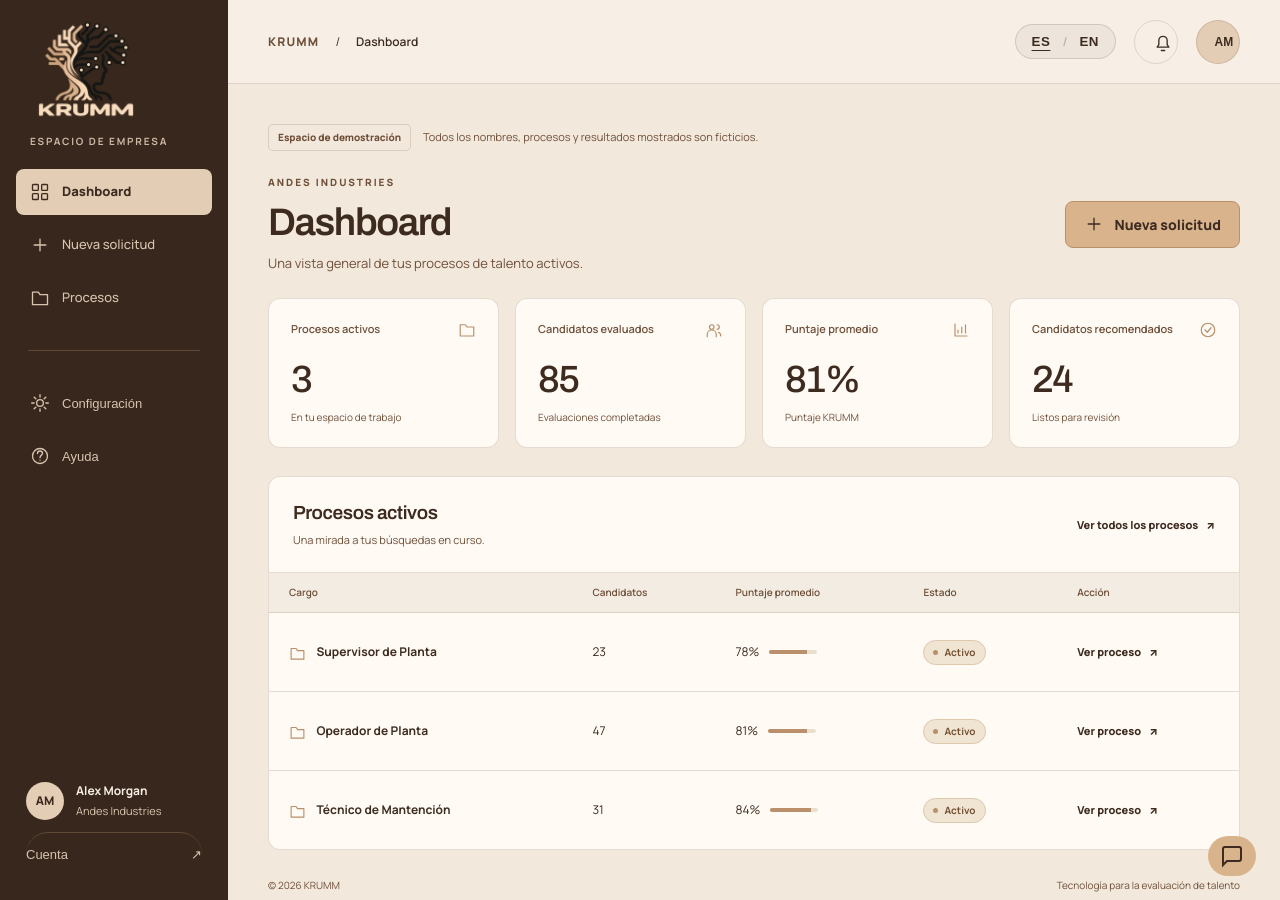
C. CompanyDashboardPage (ref company.html) › EN: KPIs y tabla traducen (cargos en inglés de la ref)
Click the button "EN" at [1089, 42], box [1069,28,1109,55]
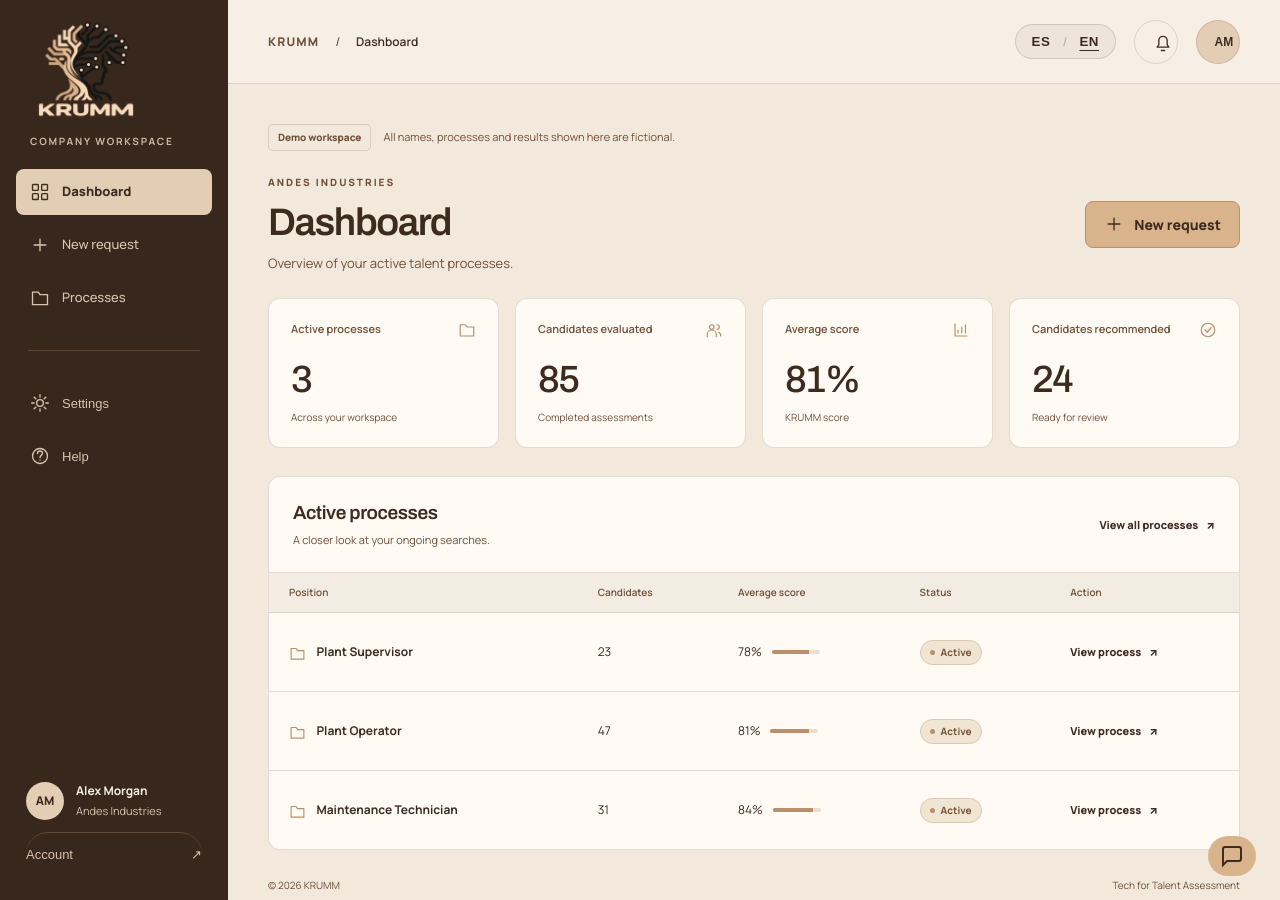
Expected: the text "81%" is shown, [785,359,860,400]
Result: the text "Plant Supervisor" is shown at [316,643,413,660]
Result: the text "Maintenance Technician" is shown at [316,801,458,818]
